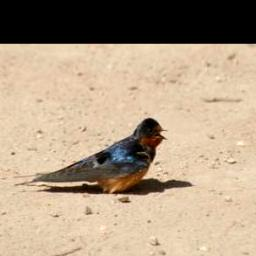Swallow: (15, 116, 168, 191)
